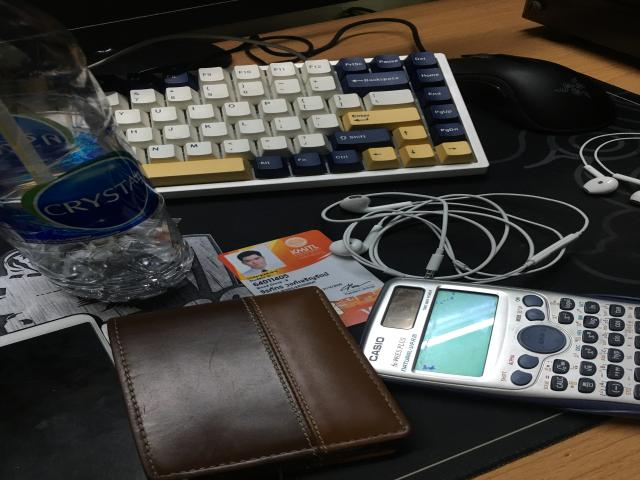Mobile phone: (0, 316, 147, 480)
Mouse: (448, 53, 615, 134)
Wallet: (108, 287, 412, 480)
bottle: (0, 0, 193, 302)
wire: (322, 192, 590, 283), (578, 132, 640, 205)
